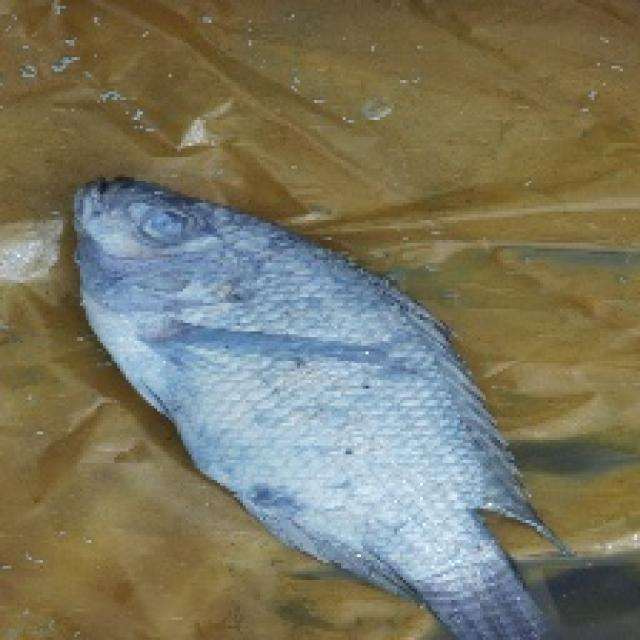Non-Fresh: (73, 156, 542, 601)
